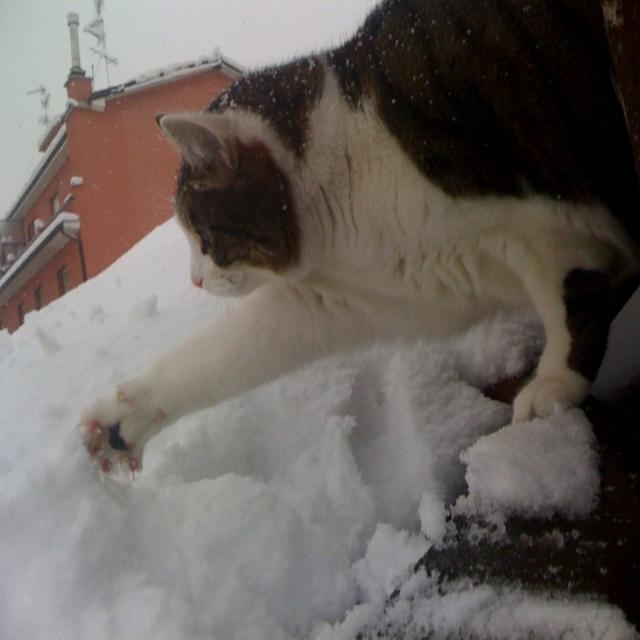Cat: (74, 0, 639, 477)
